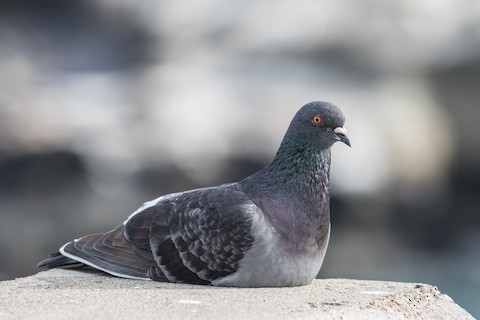pigeon: (36, 97, 357, 295)
